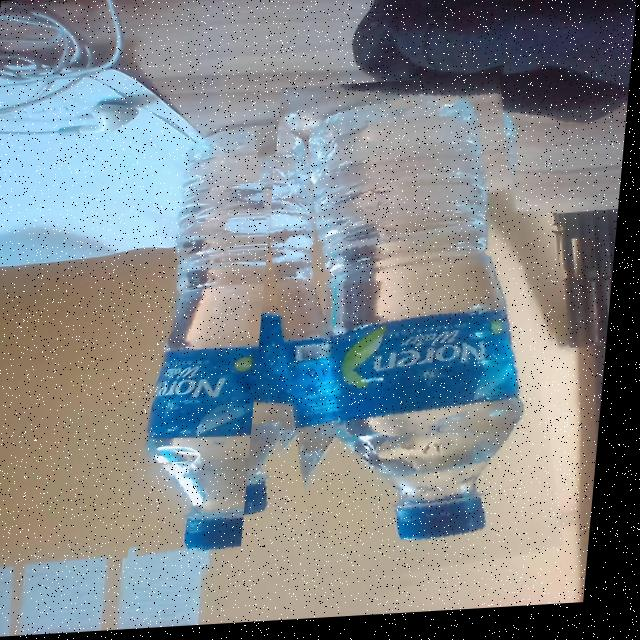litter: (247, 77, 582, 608), (135, 459, 299, 584), (334, 503, 496, 582)
